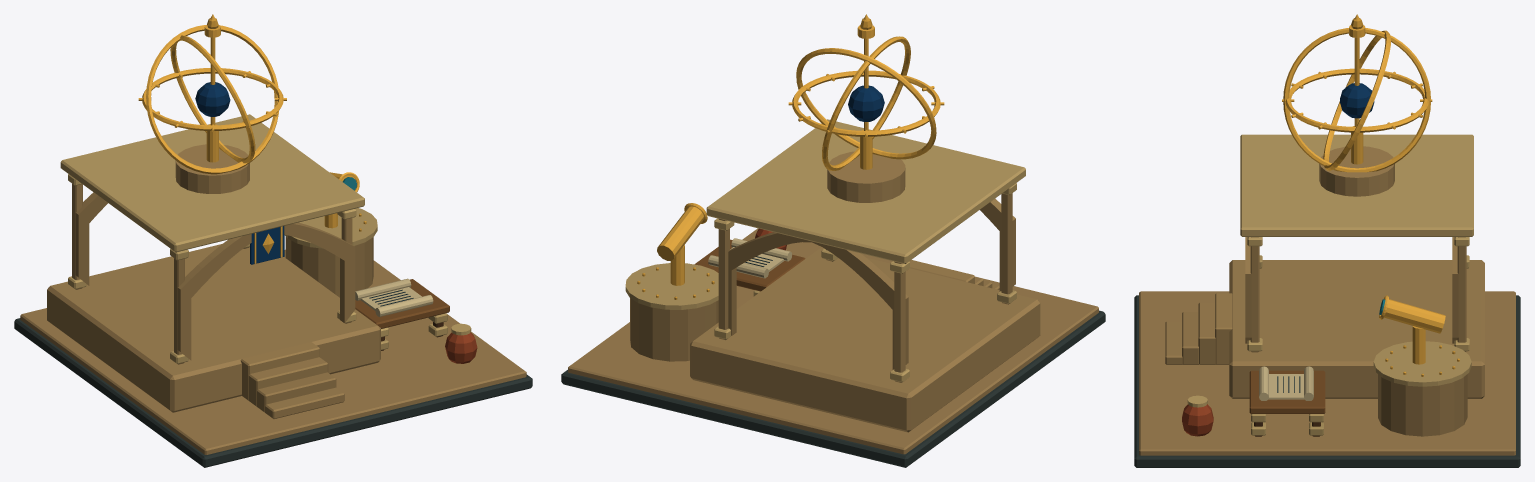
3 views of the same model, side by side, from view 1: azimuth 30°, elevation 25°; view 2: azimuth 150°, elevation 25°; view 3: azimuth 270°, elevation 25° (orthographic). The views are drawn at different scales.
Visible parts, largest first — view 1: laboratory_level2_structure, laboratory_level2_metal; view 2: laboratory_level2_structure, laboratory_level2_metal; view 3: laboratory_level2_structure, laboratory_level2_metal.
Boxes of the visible parts, bbox=[...] form: laboratory_level2_structure: bbox=[14, 18, 532, 467]; laboratory_level2_metal: bbox=[138, 14, 359, 263]; laboratory_level2_structure: bbox=[561, 18, 1105, 467]; laboratory_level2_metal: bbox=[657, 14, 944, 285]; laboratory_level2_structure: bbox=[1134, 18, 1520, 467]; laboratory_level2_metal: bbox=[1282, 14, 1445, 364].
Bounding box in the file's own units: 5.6 × 5.61 × 5.6.
